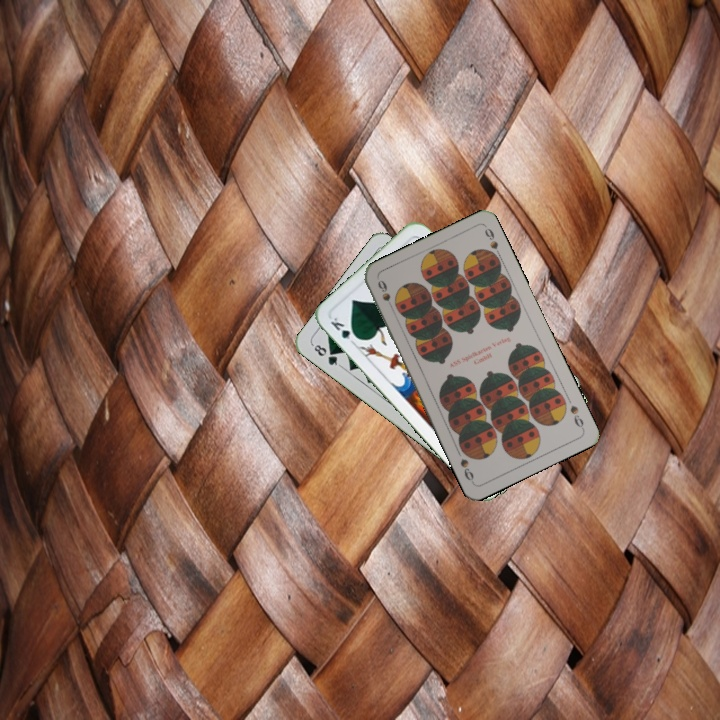G8: (308, 340, 343, 369)
GK: (326, 313, 361, 347)
S9: (374, 276, 397, 314), (566, 401, 587, 432)
